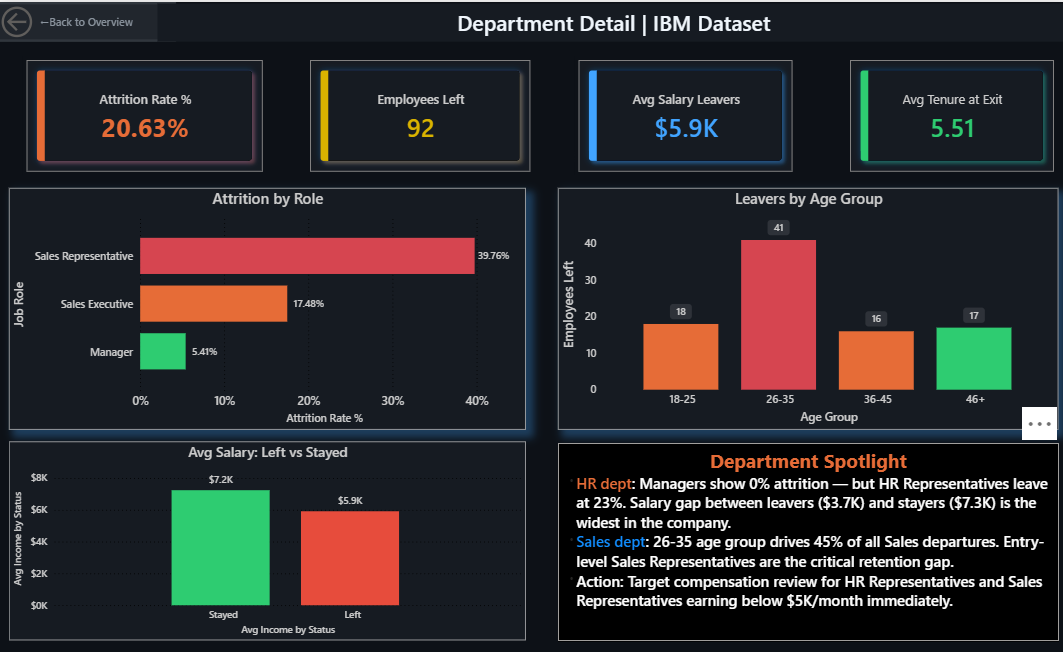

Layout of this report page (visuals, bound fields, positions):
{"tool":"powerbi","page":{"name":"Department Detail","canvas":[1350,820],"ordinal":2},"visuals":[{"type":"actionButton","box":[0,0,225,50],"z":0},{"type":"textbox","box":[201.9,1.9,1148.1,48.1],"z":1000},{"type":"cardVisual","fields":{"Data":["_Measures.Attrition Rate %"]},"box":[31.5,68.5,307.4,150],"z":2000},{"type":"cardVisual","fields":{"Data":["_Measures.Employees Left"]},"box":[388.9,68.5,287,150],"z":3000},{"type":"cardVisual","fields":{"Data":["_Measures.Avg Salary Leavers"]},"box":[725.9,68.5,279.6,150],"z":4000},{"type":"cardVisual","fields":{"Data":["_Measures.Avg Tenure at Exit"]},"box":[1068.5,68.5,266.7,150],"z":5000},{"type":"clusteredBarChart","title":"Attrition by Role","fields":{"Category":["employees.job_role"],"Y":["_Measures.Attrition Rate %"]},"box":[14.8,233.3,650,303.7],"z":6000},{"type":"clusteredColumnChart","title":"Leavers by Age Group","fields":{"Category":["employees.age_group"],"Y":["_Measures.Employees Left"]},"box":[705.6,233.3,629.6,303.7],"z":7000},{"type":"clusteredColumnChart","title":"Avg Salary: Left vs Stayed","fields":{"Y":["_Measures.Avg Income by Status"],"Category":["employees.attrition_label"]},"box":[14.8,553.7,650,250],"z":8000},{"type":"textbox","box":[706,554,630,250],"z":8001}]}

Visuals, with their boxes in screenshot pixels (x1, y1, x2, y2), scaled from the page's 1350x820 canvas onto the 1063x652 screenshot:
actionButton: region(0, 0, 177, 40)
textbox: region(159, 2, 1062, 40)
cardVisual - _Measures.Attrition Rate %: region(25, 54, 267, 174)
cardVisual - _Measures.Employees Left: region(306, 54, 532, 174)
cardVisual - _Measures.Avg Salary Leavers: region(572, 54, 792, 174)
cardVisual - _Measures.Avg Tenure at Exit: region(841, 54, 1051, 174)
"Attrition by Role" clusteredBarChart: region(12, 186, 523, 427)
"Leavers by Age Group" clusteredColumnChart: region(556, 186, 1051, 427)
"Avg Salary: Left vs Stayed" clusteredColumnChart: region(12, 440, 523, 639)
textbox: region(556, 440, 1052, 639)
